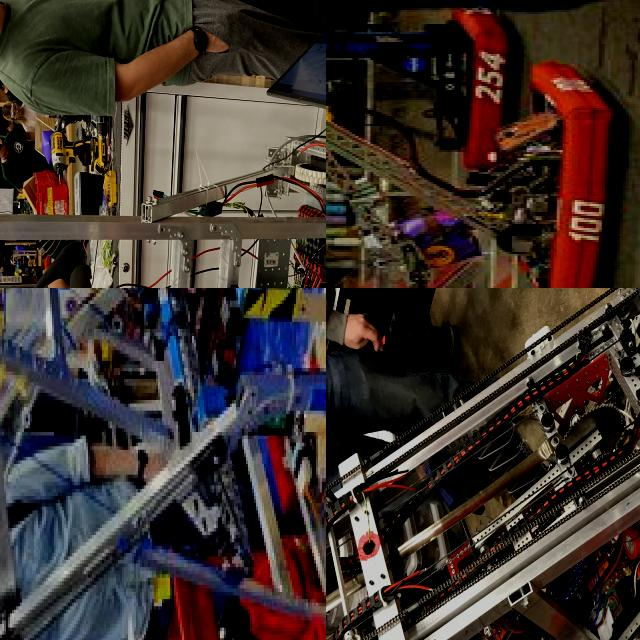FRC-Robots: (0, 288, 326, 640), (326, 288, 640, 640), (326, 54, 614, 288), (0, 90, 326, 288), (326, 0, 541, 147)
